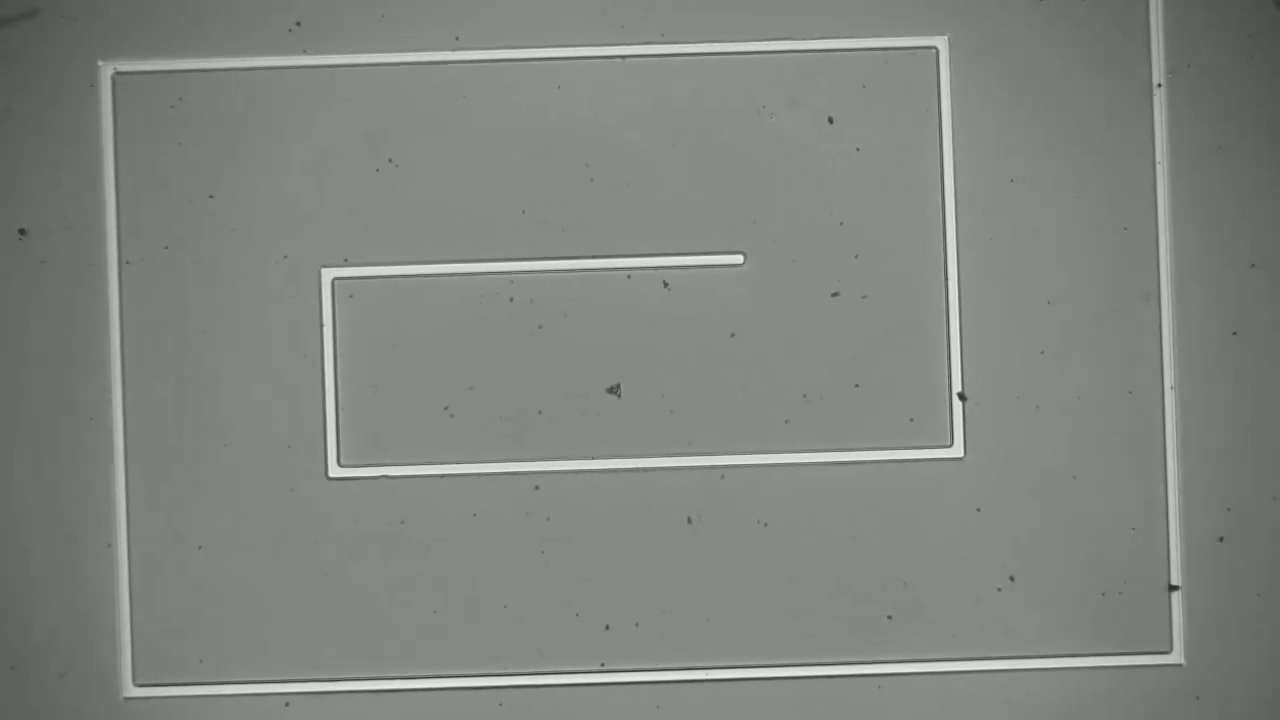stains_enbedded: (948, 380, 976, 411), (1159, 571, 1189, 597)
